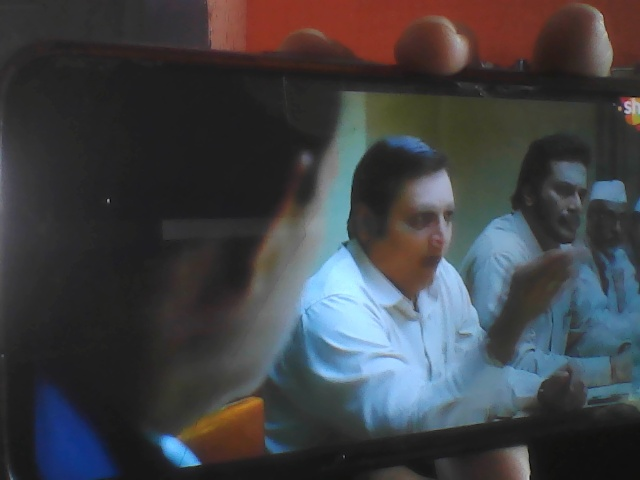fake: (360, 139, 470, 295)
